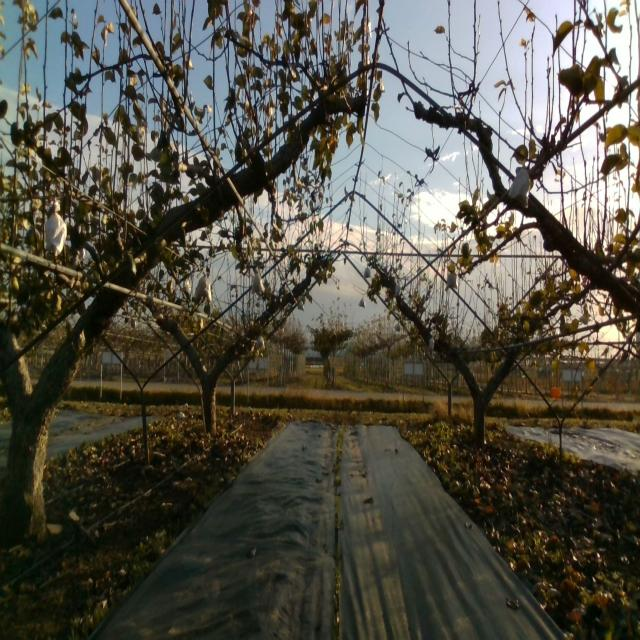pearbags: (44, 196, 67, 255), (508, 164, 531, 211), (193, 272, 212, 304), (250, 267, 268, 295), (444, 270, 458, 292)
